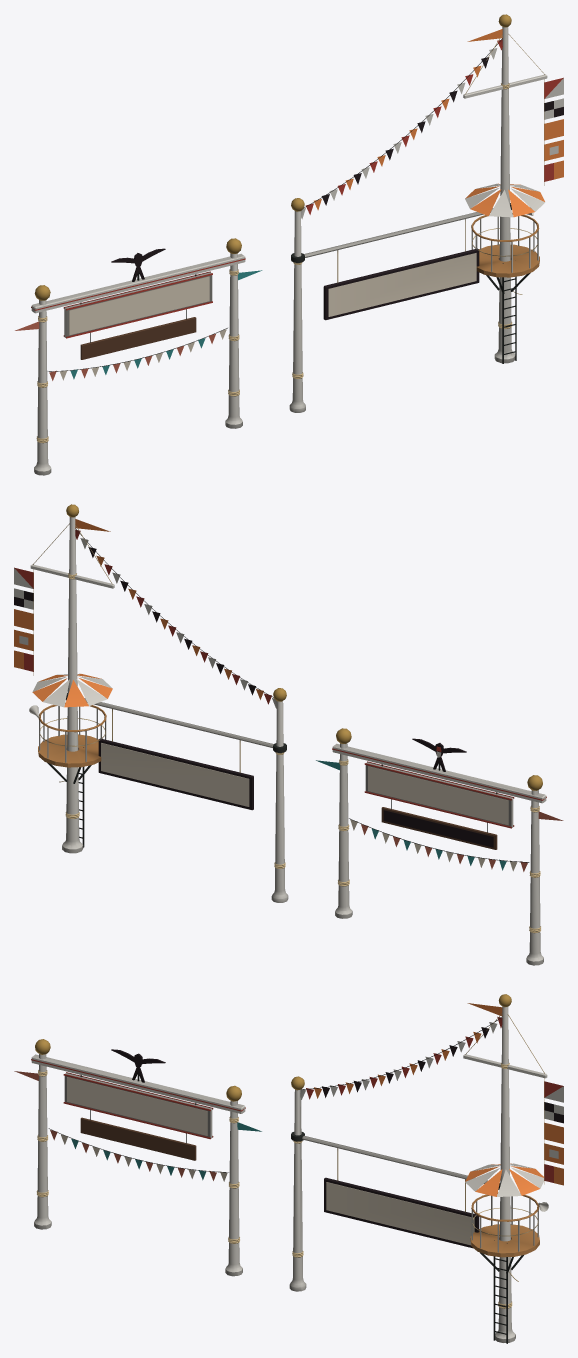
The model's file is pav_swallow_gate.glb.
The picture shows the model from 3 angles, top to bottom: view 1: azimuth 30°, elevation 25°; view 2: azimuth 150°, elevation 25°; view 3: azimuth 330°, elevation 25°; orthographic projection.
Parts seen in each view (by area): view 1: static_swallow_gate, live_swallow_gate_signal_flags; view 2: static_swallow_gate, live_swallow_gate_signal_flags; view 3: static_swallow_gate, live_swallow_gate_signal_flags.
Part boxes in pixels (left/top/right/bottom): static_swallow_gate: left=31, top=14, right=547, bottom=475; live_swallow_gate_signal_flags: left=544, top=77, right=563, bottom=185; static_swallow_gate: left=29, top=504, right=546, bottom=965; live_swallow_gate_signal_flags: left=14, top=567, right=33, bottom=675; static_swallow_gate: left=31, top=994, right=548, bottom=1343; live_swallow_gate_signal_flags: left=544, top=1078, right=563, bottom=1185.
Size of the model in its own units: 17.24 by 10.31 by 2.09.
